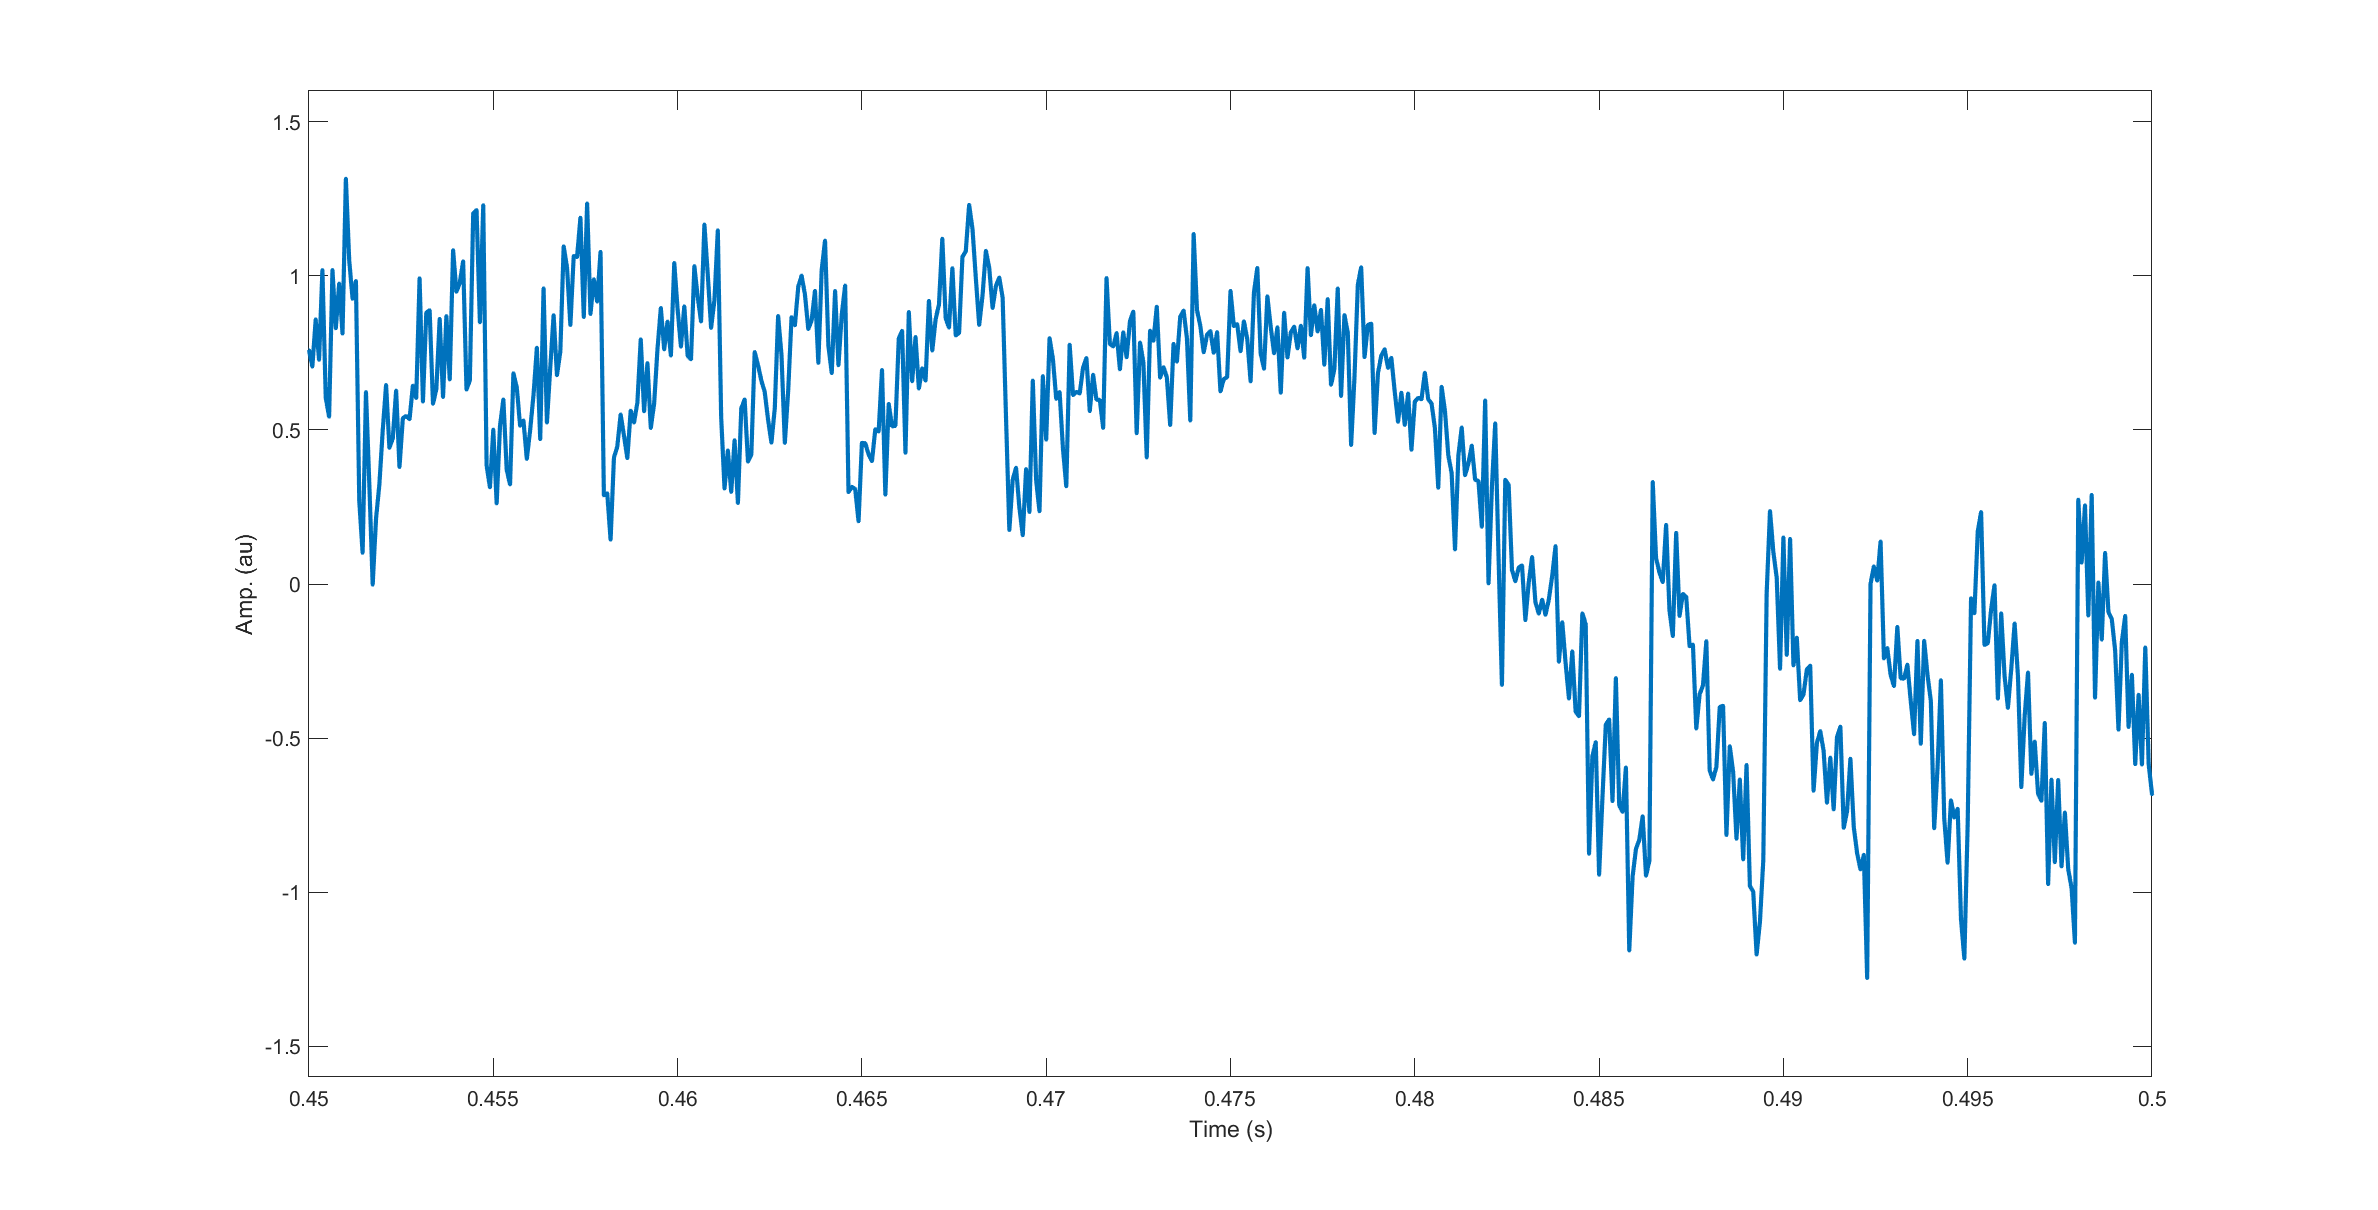negative_fringe: (1619, 461, 1748, 960), (1954, 480, 2052, 968), (1853, 522, 1949, 982), (1755, 499, 1846, 938), (2063, 478, 2136, 945)
positive_fringe: (864, 184, 1014, 514), (377, 198, 494, 514), (508, 187, 611, 514), (738, 227, 855, 503), (625, 204, 730, 508)
